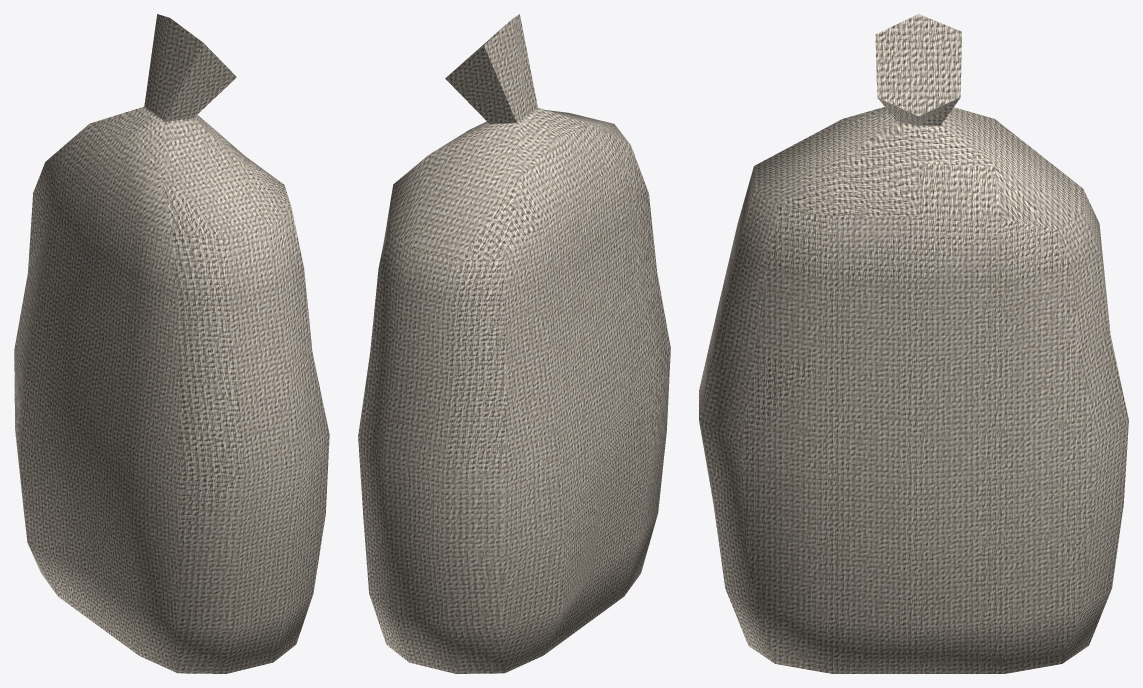
File: mm_bag_1.FBX
3 renders of one model, left to right at view 1: azimuth 30°, elevation 25°; view 2: azimuth 150°, elevation 25°; view 3: azimuth 270°, elevation 25°, orthographic. The views are drawn at different scales.
Visible parts, largest first — view 1: bag01; view 2: bag01; view 3: bag01.
Part boxes in pixels (x1,y1,x2,y2): bag01: [14, 14, 329, 673]; bag01: [358, 14, 670, 673]; bag01: [699, 14, 1128, 673].
Size of the model in its own units: 26.74 by 76.34 by 46.03.
Materials: 1 (1 with a texture image).
